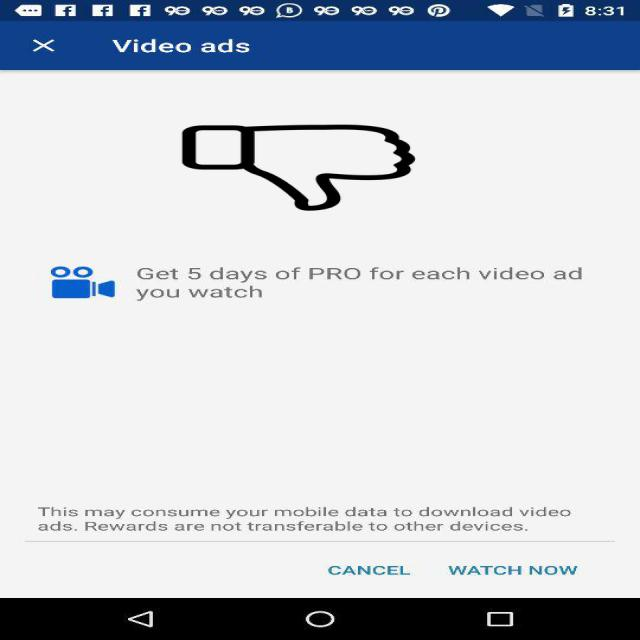obstruction: (179, 124, 418, 210)
